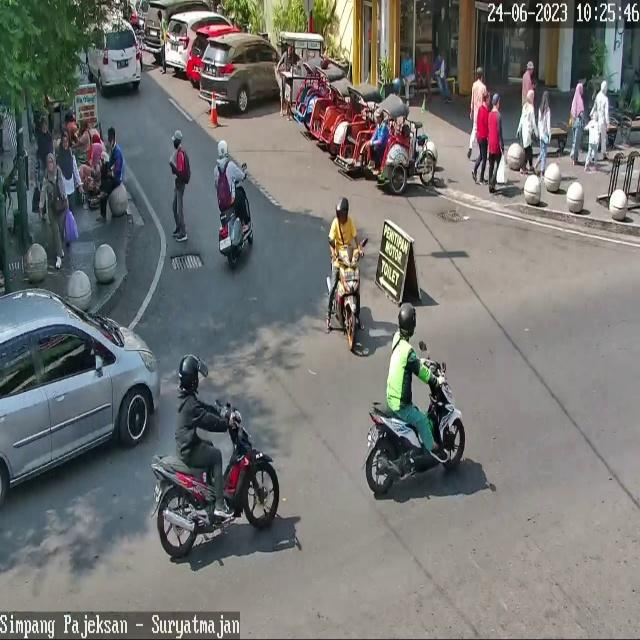bus: (151, 402, 279, 558), (366, 358, 466, 494), (218, 178, 253, 266), (332, 247, 361, 350)
motorcycle: (0, 288, 160, 490), (201, 34, 281, 114), (85, 16, 142, 93), (164, 9, 233, 67), (144, 0, 212, 54), (186, 24, 242, 82)
